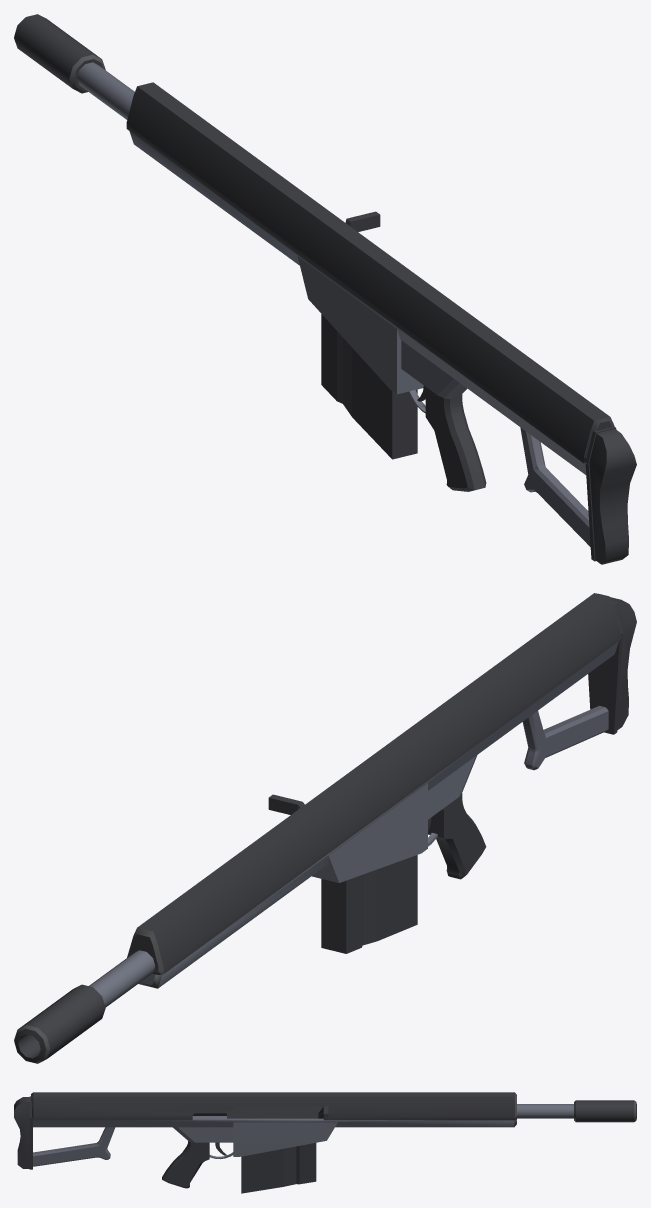
Rendered from M107Fix.fbx.
3 renders of one model, top to bottom at view 1: azimuth 30°, elevation 25°; view 2: azimuth 150°, elevation 25°; view 3: azimuth 270°, elevation 25°, orthographic. The views are drawn at different scales.
Parts seen in each view (by area): view 1: M107, Magazin; view 2: M107, Magazin; view 3: M107, Magazin, Bolt.
Part boxes in pixels (x1,y1,x2,y2): M107: (14,14,636,564); Magazin: (321,314,417,459); M107: (14,593,636,1063); Magazin: (321,855,417,953); M107: (14,1092,636,1188); Magazin: (241,1143,316,1193); Bolt: (192,1106,328,1120).
Size of the model in its own units: 17.36 by 41.91 by 246.
